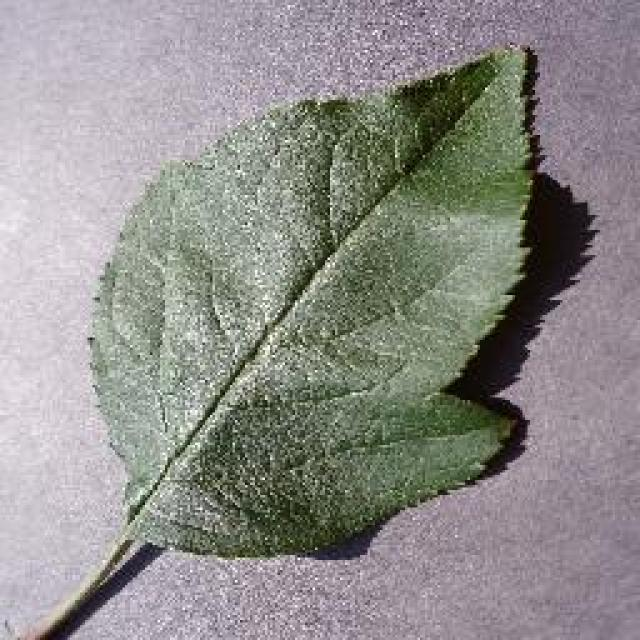apple healthy: (0, 40, 550, 638)
